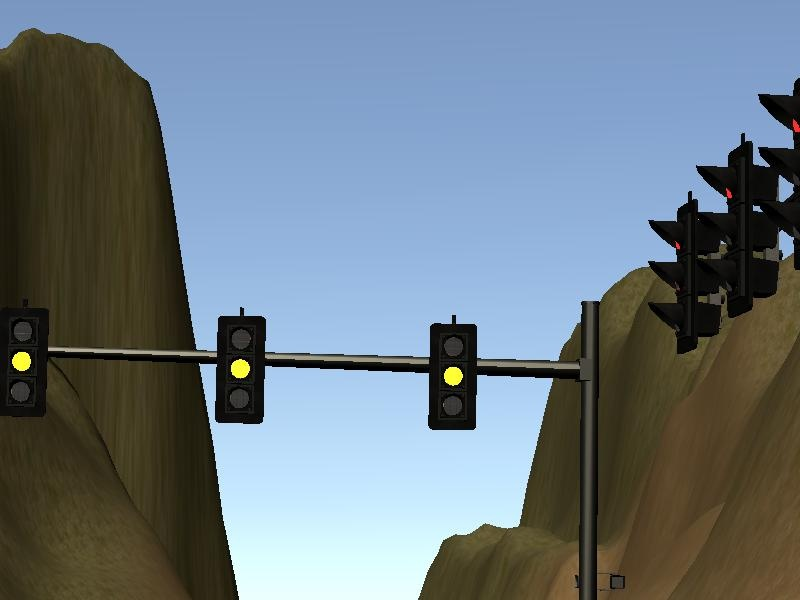YELLOW: (214, 313, 269, 428), (426, 318, 481, 433), (1, 299, 50, 423)
